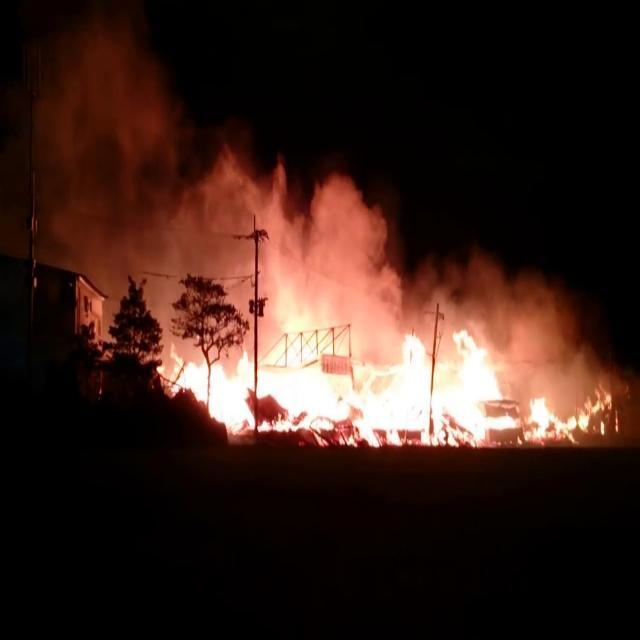Fire: (187, 342, 494, 489)
Smoke: (186, 168, 280, 313), (296, 182, 382, 334), (511, 303, 565, 398)
